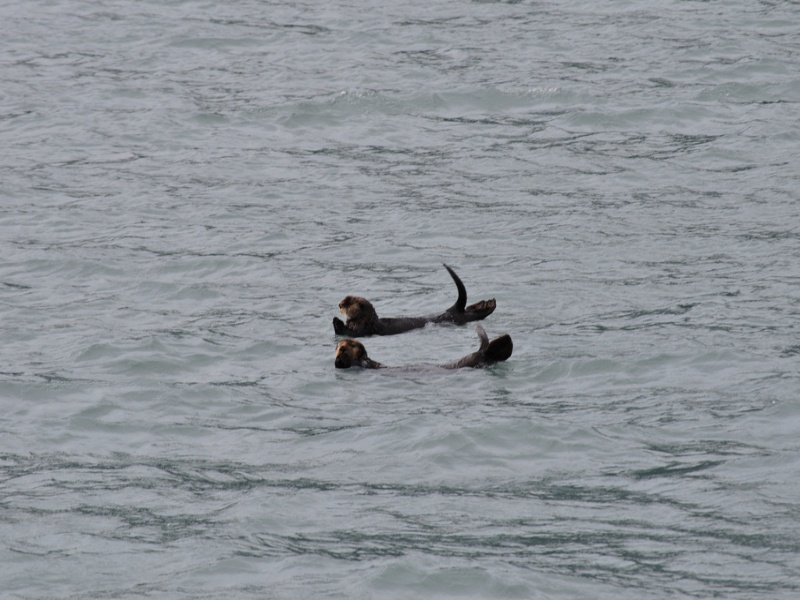minkish: (333, 262, 497, 337), (333, 339, 516, 383)
